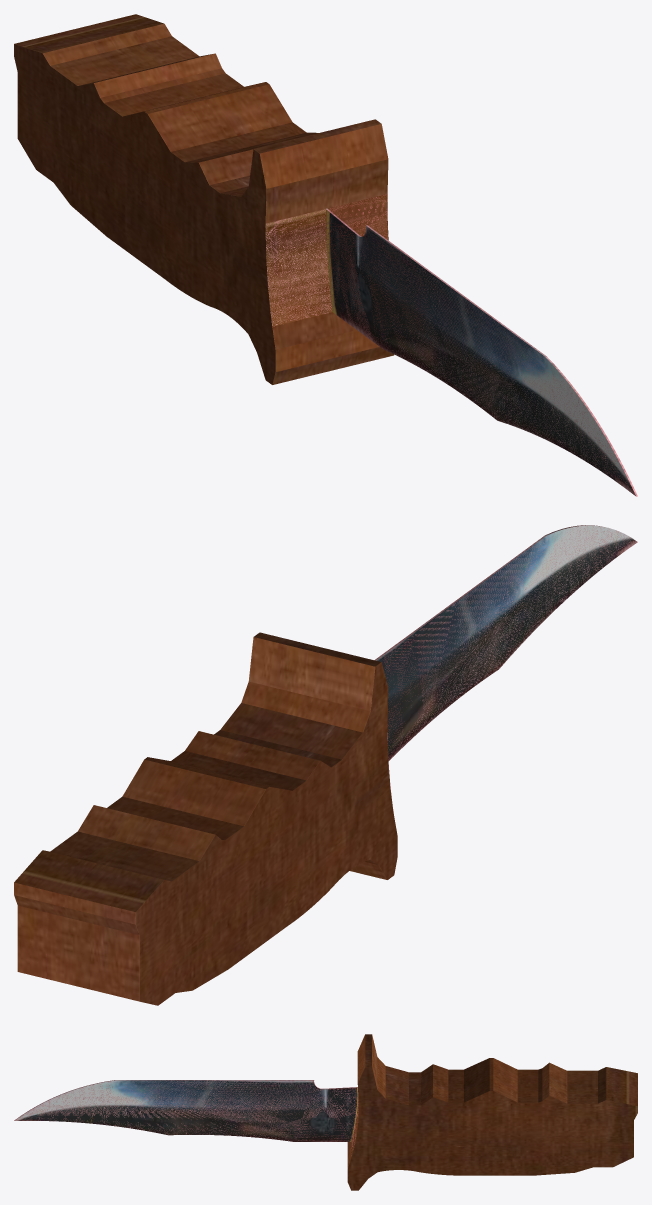
The model's file is model_align.obj.
3 views of the same model, one above another, from view 1: azimuth 30°, elevation 25°; view 2: azimuth 150°, elevation 25°; view 3: azimuth 270°, elevation 25° (orthographic). The views are drawn at different scales.
Visible parts, largest first — view 1: mesh1_mesh1-geometry, mesh3_mesh3-geometry; view 2: mesh1_mesh1-geometry, mesh3_mesh3-geometry; view 3: mesh1_mesh1-geometry, mesh3_mesh3-geometry.
Boxes of the visible parts, box(x1,y1,x2,y2) form: mesh1_mesh1-geometry: box(14, 14, 394, 384); mesh3_mesh3-geometry: box(265, 194, 637, 496); mesh1_mesh1-geometry: box(14, 632, 397, 1005); mesh3_mesh3-geometry: box(374, 525, 637, 811); mesh1_mesh1-geometry: box(347, 1034, 637, 1190); mesh3_mesh3-geometry: box(14, 1080, 358, 1157).
Bounding box in the file's own units: 0.0257 × 0.0447 × 0.2049.
2 materials, 2 textured.
